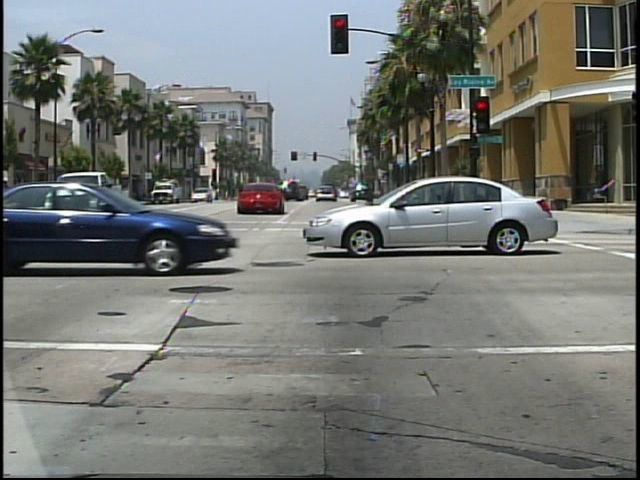person: (1, 172, 21, 228)
